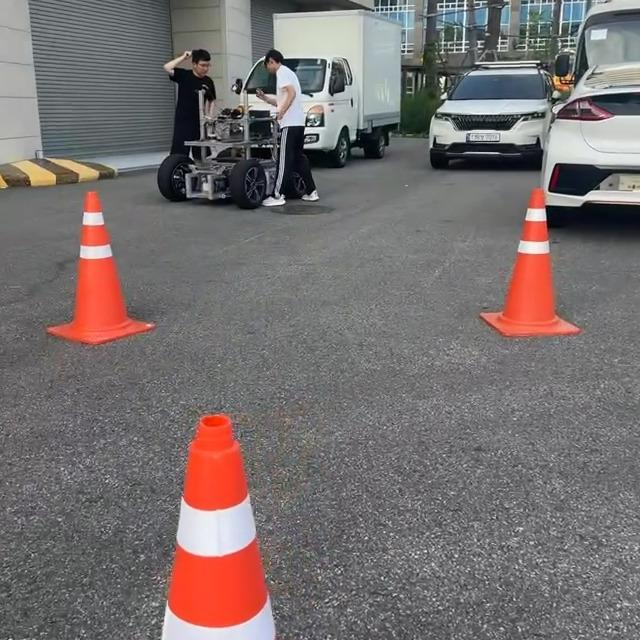fallen_object: (133, 402, 322, 629), (455, 165, 616, 396), (56, 186, 186, 369)
